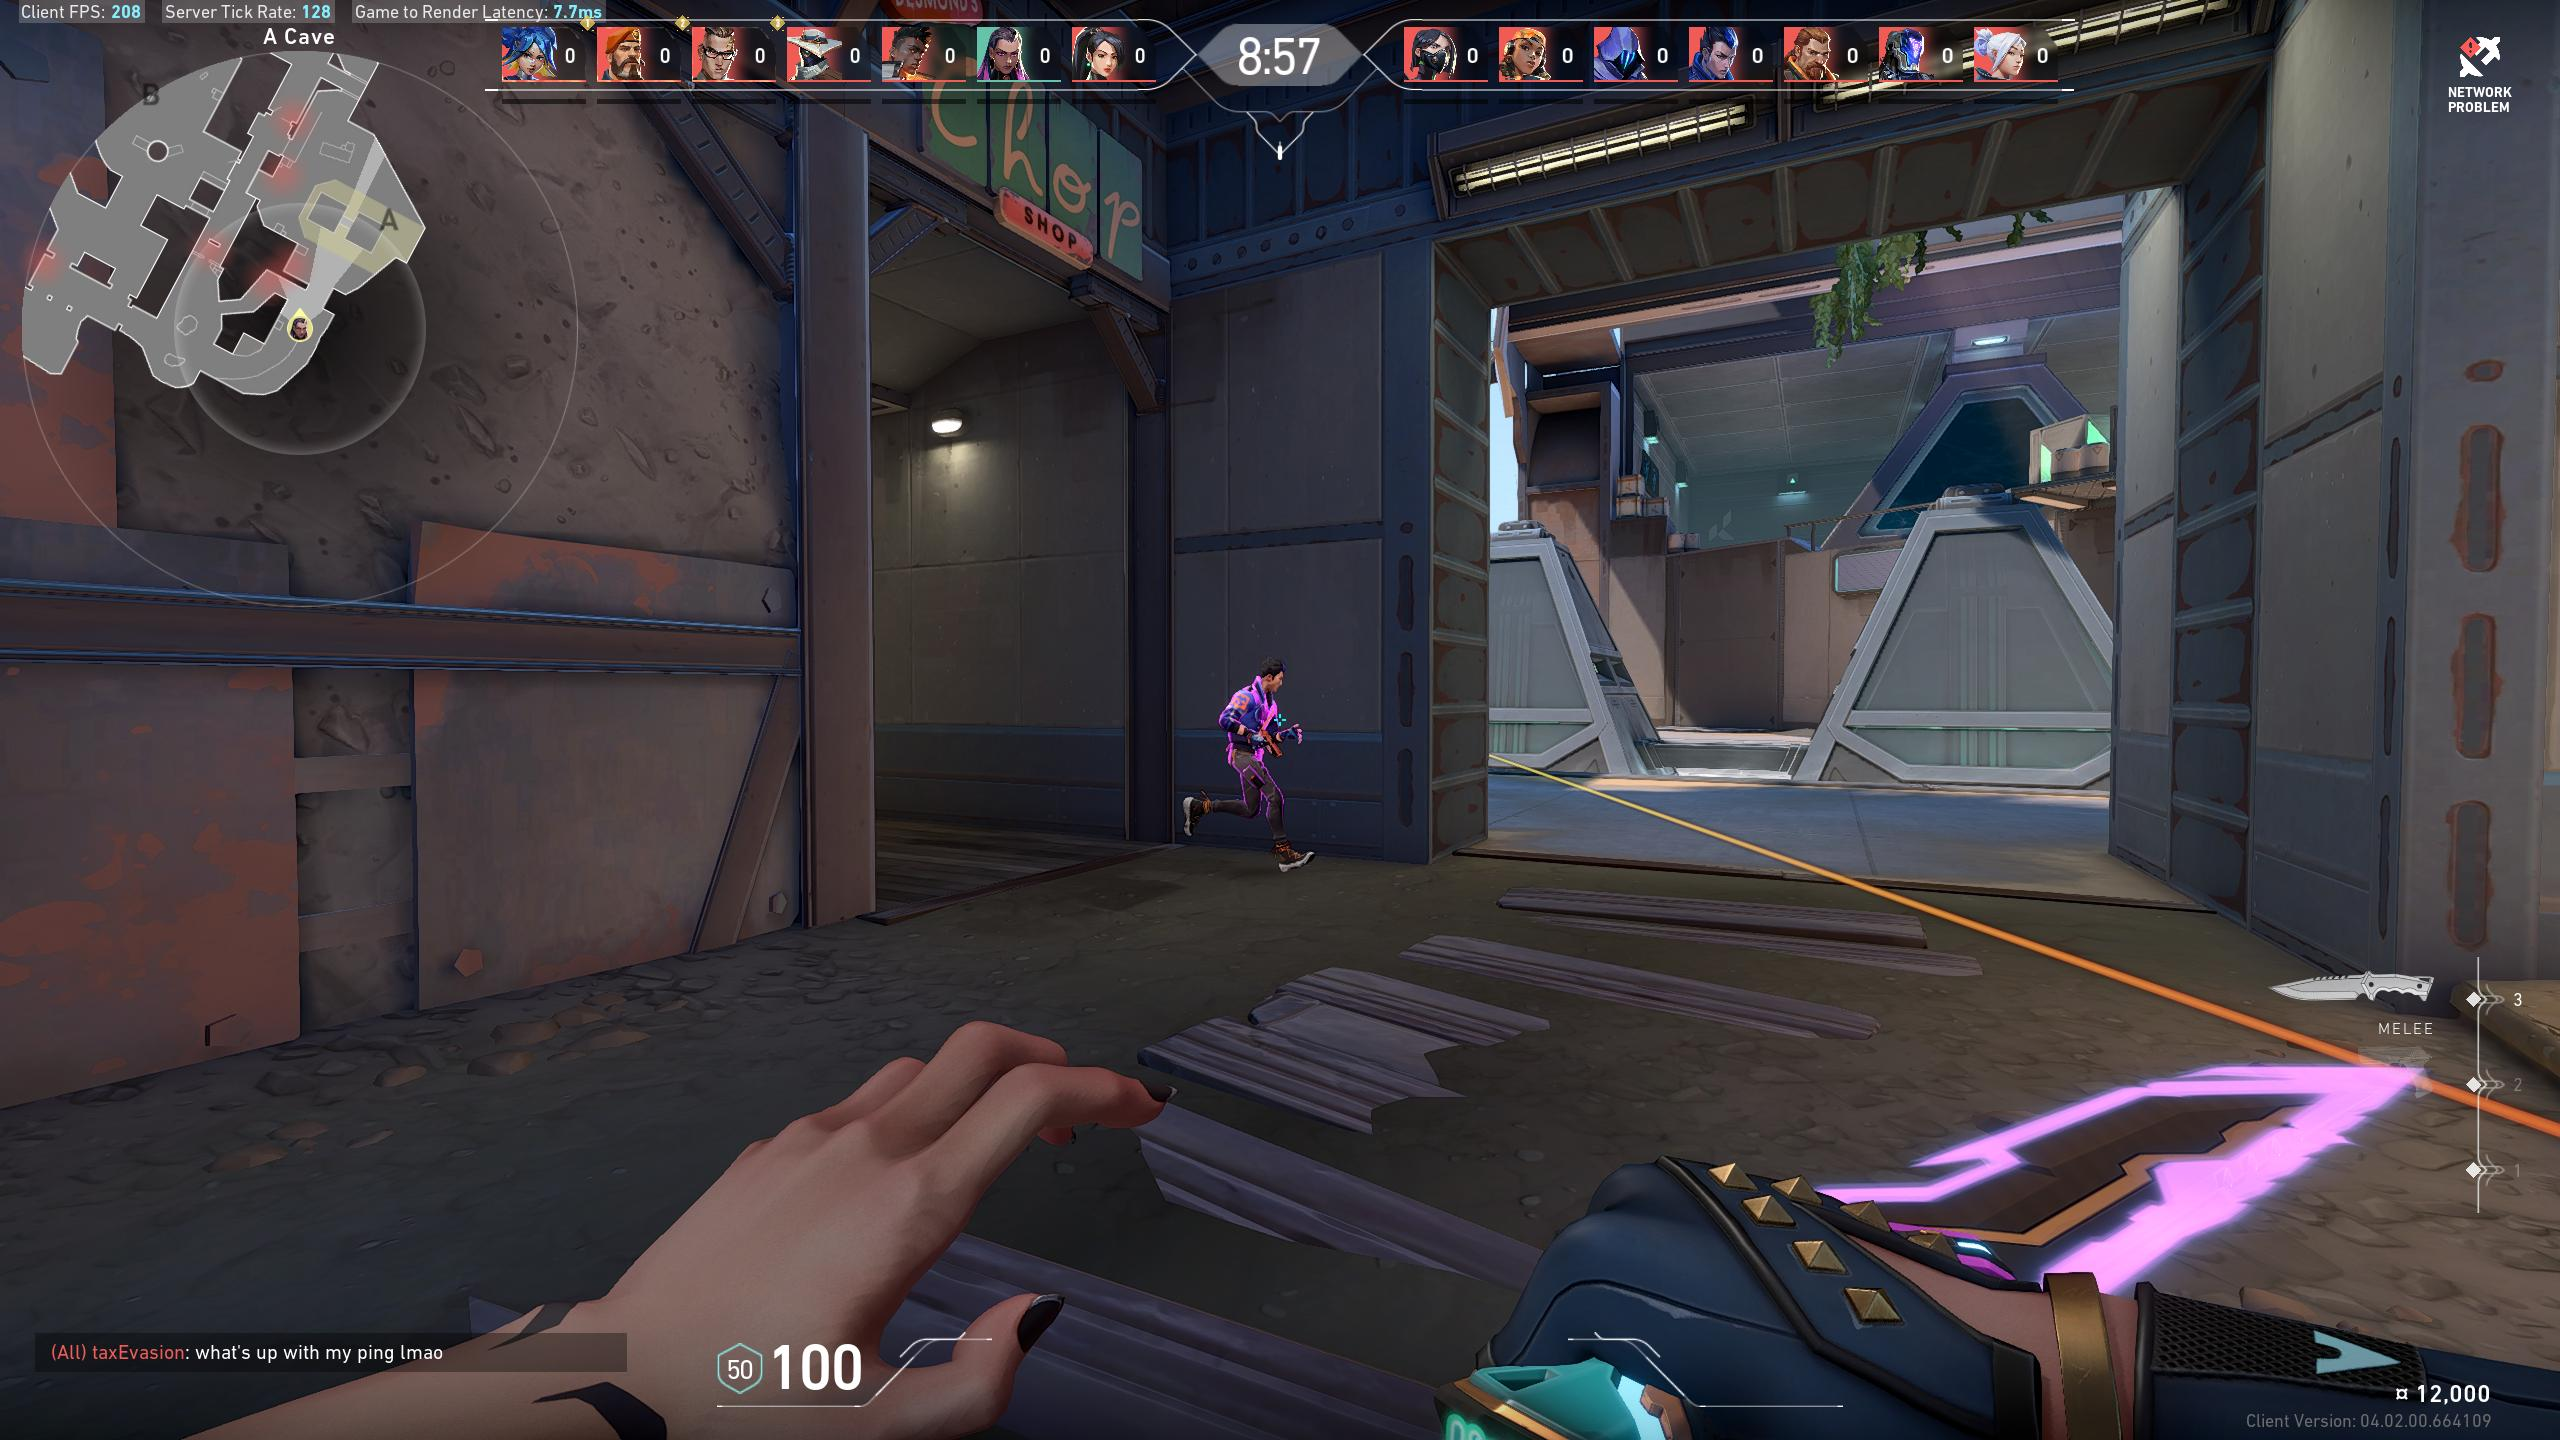enemyBody: (1240, 693, 1266, 749)
enemyHead: (1262, 666, 1280, 687)
